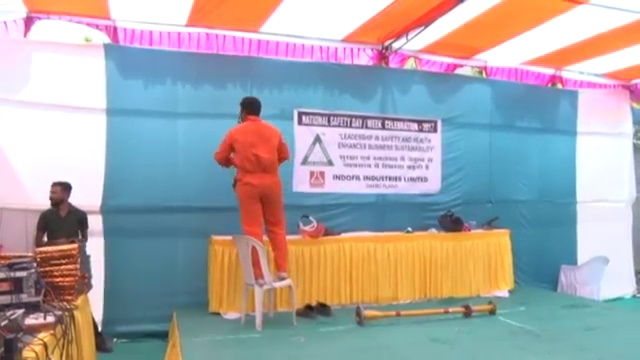helmet_off: (237, 95, 262, 125), (47, 181, 72, 209)
person: (214, 94, 294, 284), (31, 182, 91, 244)
